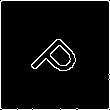P_NE: (24, 24, 86, 86)
